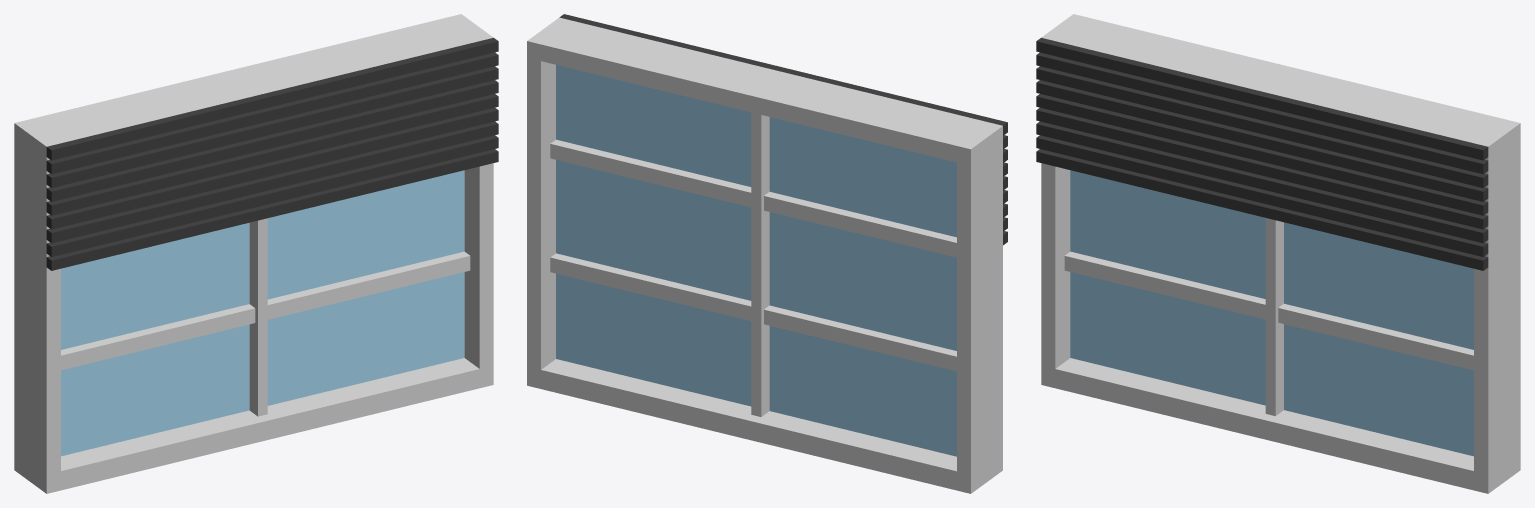
File: window_010.glb
3 views of the same model, side by side, from view 1: azimuth 30°, elevation 25°; view 2: azimuth 150°, elevation 25°; view 3: azimuth 330°, elevation 25° (orthographic).
Visible parts, largest first — view 1: window_010; view 2: window_010; view 3: window_010.
Part boxes in pixels (box(x1,y1,x2,y2)): window_010: box(14, 14, 498, 493); window_010: box(527, 14, 1007, 493); window_010: box(1036, 14, 1520, 493).
Size of the model in its own units: 2.25 by 1.67 by 0.3252.
Materials: 1 (1 with a texture image).
